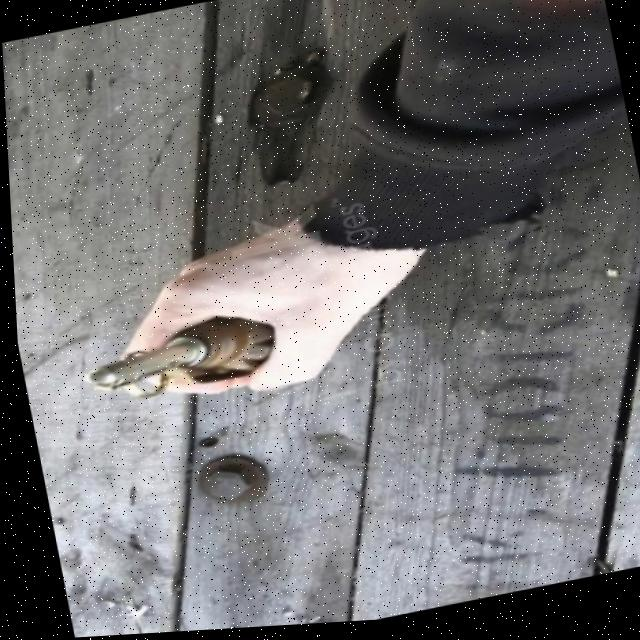grenade: (53, 308, 279, 417)
